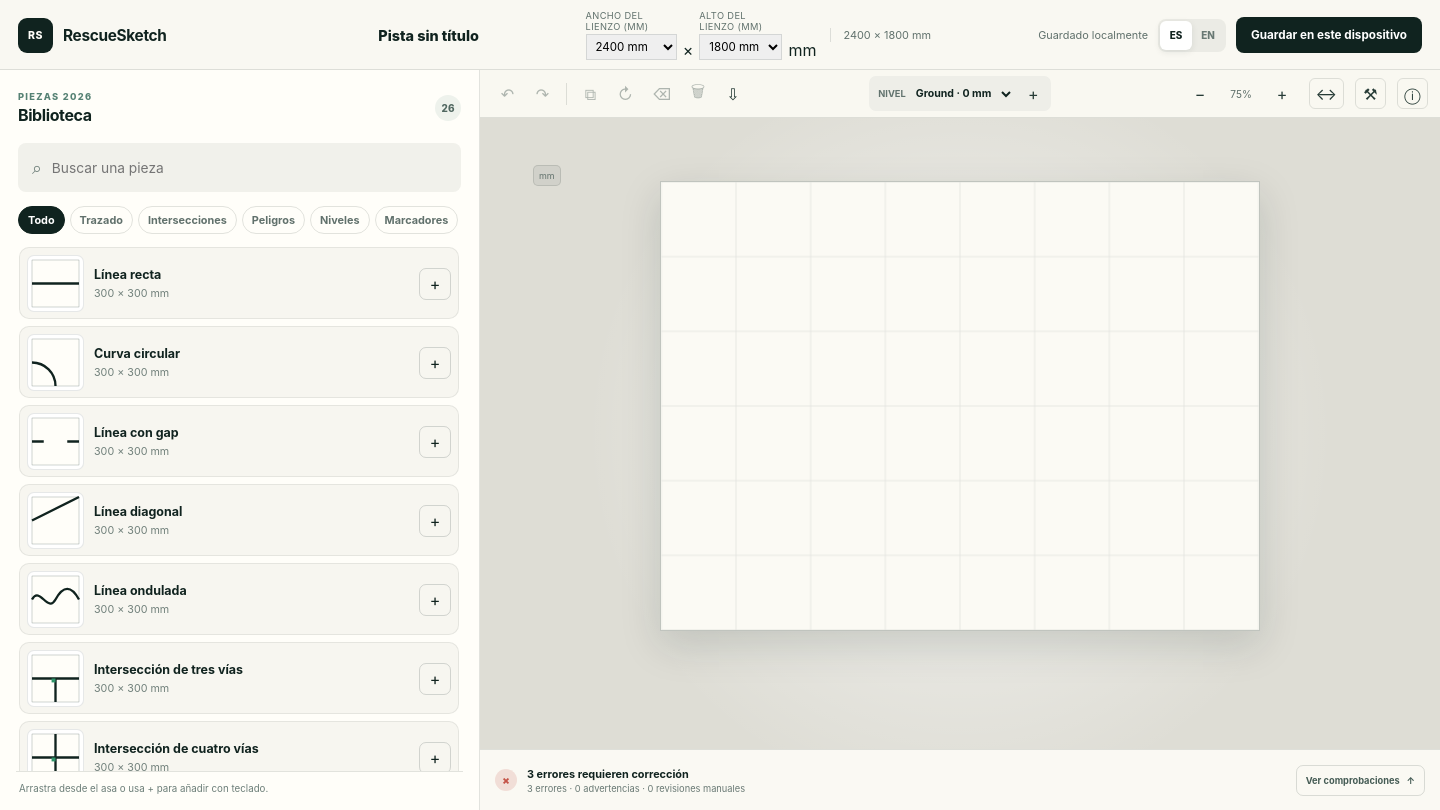
EditorWorkspace › updates the editor and catalog from Spanish to English
expect the text "Línea recta" is shown: met, box [94, 267, 161, 282]
Click the button with aria-label "Cambiar idioma a inglés". click: (1208, 35)
box: [1192, 20, 1224, 50]
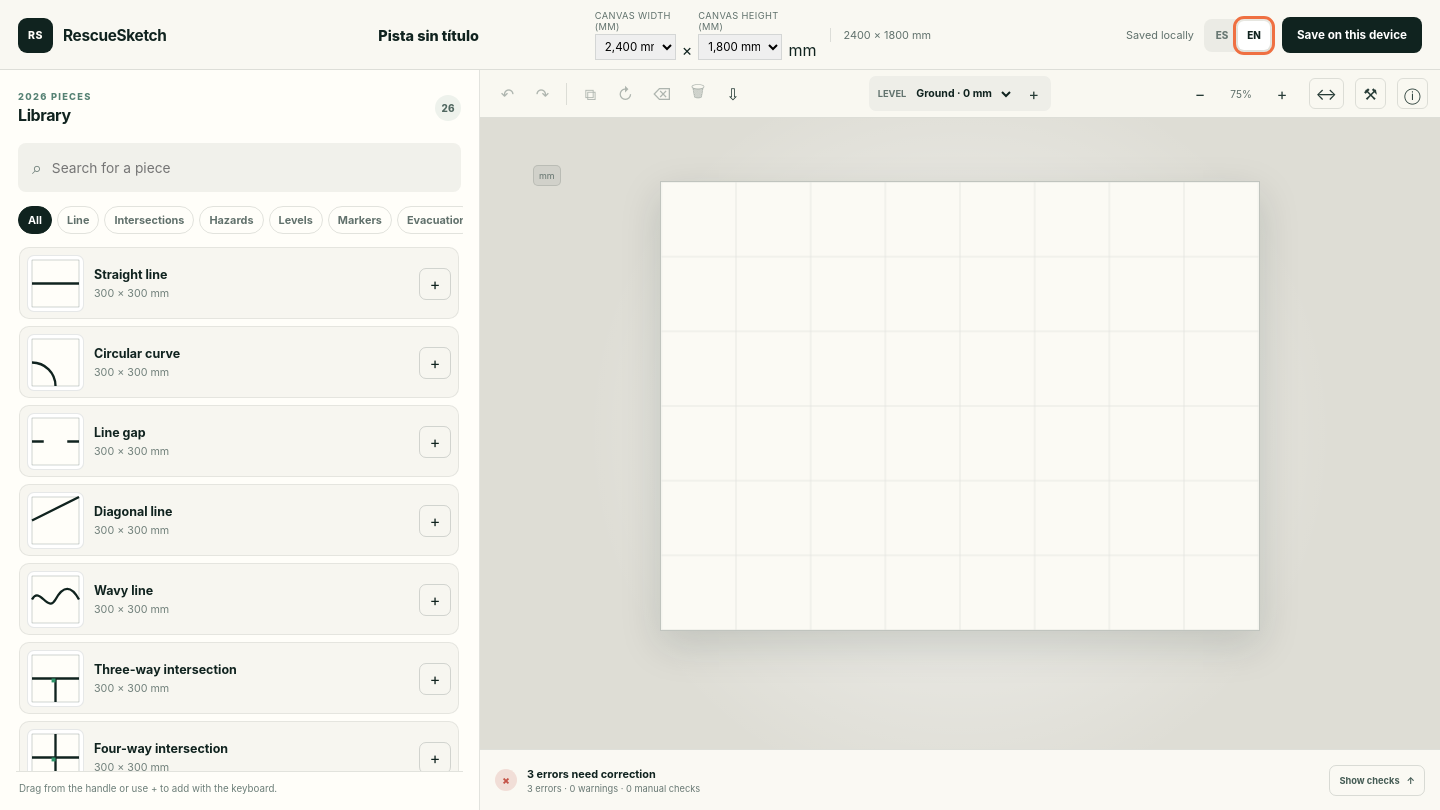
expect the text "Straight line" is shown: met, box [94, 267, 167, 282]
